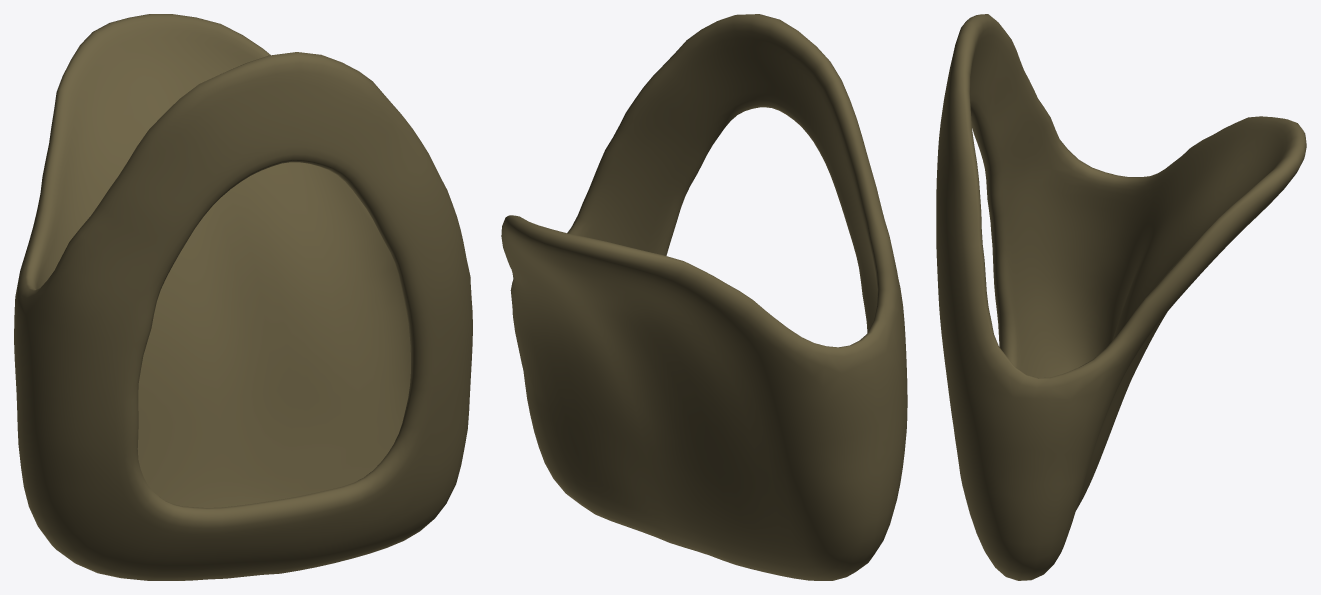
The model's file is TL1_Frame_Classic.001.glb.
3 renders of one model, left to right at view 1: azimuth 30°, elevation 25°; view 2: azimuth 150°, elevation 25°; view 3: azimuth 270°, elevation 25°, orthographic. The views are drawn at different scales.
Visible parts, largest first — view 1: TL1_Frame_Classic.001; view 2: TL1_Frame_Classic.001; view 3: TL1_Frame_Classic.001.
Part boxes in pixels (bbox=[...]): TL1_Frame_Classic.001: bbox=[14, 14, 472, 580]; TL1_Frame_Classic.001: bbox=[501, 14, 907, 580]; TL1_Frame_Classic.001: bbox=[936, 14, 1306, 580].
Size of the model in its own units: 0.8659 by 1.1 by 0.7451.
